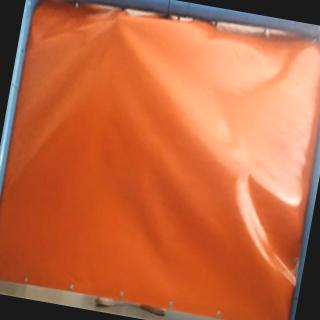Hit-hRxx: (109, 12, 130, 28)
